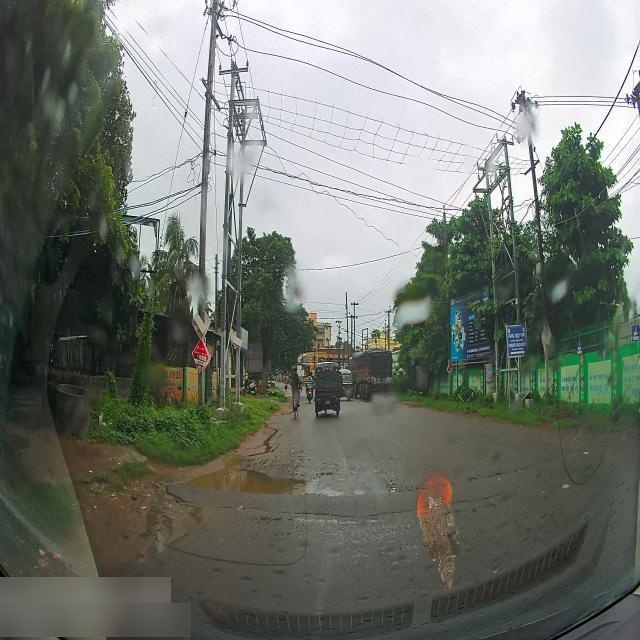pothole: (184, 443, 324, 513)
